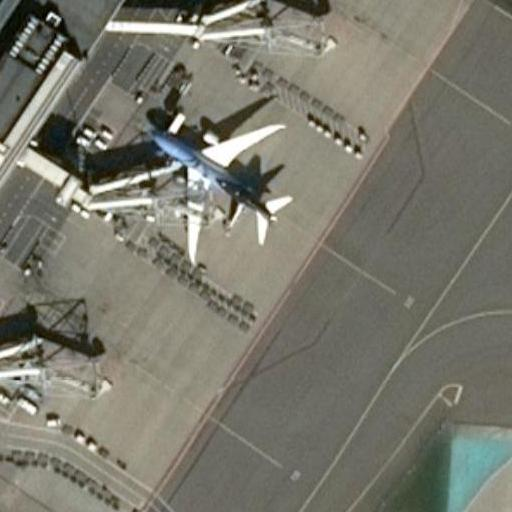Aircraft: (136, 106, 295, 267)
